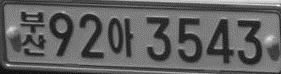2: (79, 12, 104, 58)
3: (237, 18, 262, 65), (146, 15, 171, 61)
4: (206, 18, 234, 63)
5: (178, 16, 202, 62)
9: (48, 11, 74, 57)
부산_V: (19, 10, 47, 56)
아: (107, 17, 133, 57)
